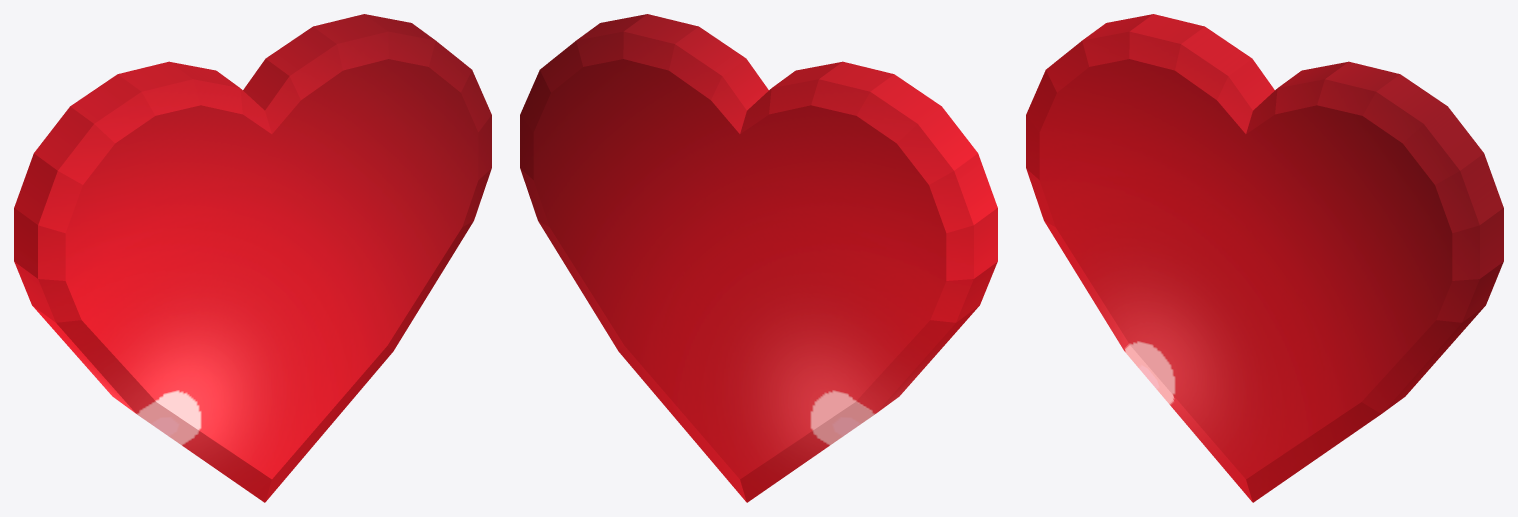
File: heart.glb
3 renders of one model, left to right at view 1: azimuth 30°, elevation 25°; view 2: azimuth 150°, elevation 25°; view 3: azimuth 330°, elevation 25°, orthographic.
Visible parts, largest first — view 1: FX_Heart_01; view 2: FX_Heart_01; view 3: FX_Heart_01.
Part boxes in pixels (left/top/right/bottom): FX_Heart_01: left=14, top=14, right=491, bottom=502; FX_Heart_01: left=520, top=14, right=997, bottom=502; FX_Heart_01: left=1026, top=14, right=1503, bottom=502.
Size of the model in its own units: 0.35 by 0.3253 by 0.0508.
Materials: 1 (1 with a texture image).
